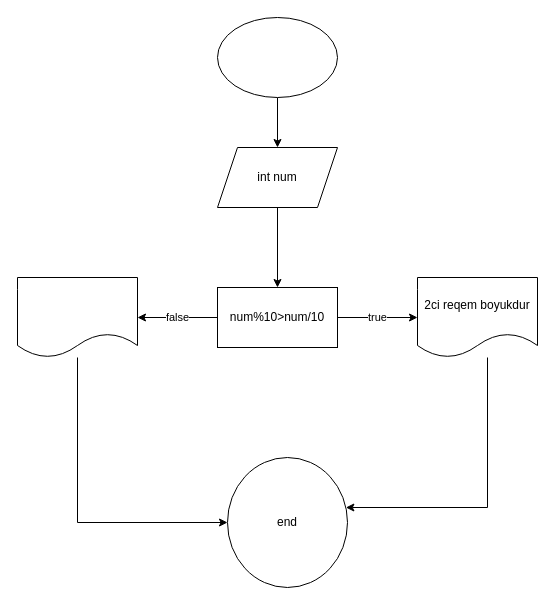
This 555x605 diagram has some shape labels left out. The centre of each missing label's shape, as x and y in pixels:
1ci reqem boyukdur: pixel 77 317
start: pixel 277 57
